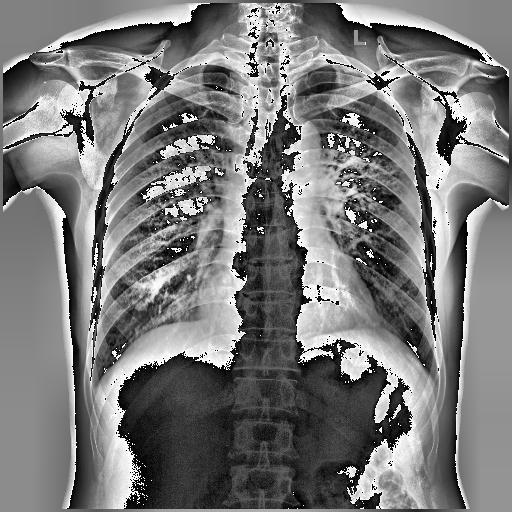10- Pleural effusion: (89, 380, 103, 394)
11- Pleural thickening: (339, 63, 374, 82), (89, 380, 103, 394)
13- Pulmonary fibrosis: (322, 128, 414, 216), (324, 126, 406, 208)
5- ILD: (322, 128, 414, 216), (326, 134, 402, 212)
6- Infiltration: (322, 128, 414, 216), (324, 126, 406, 208)
